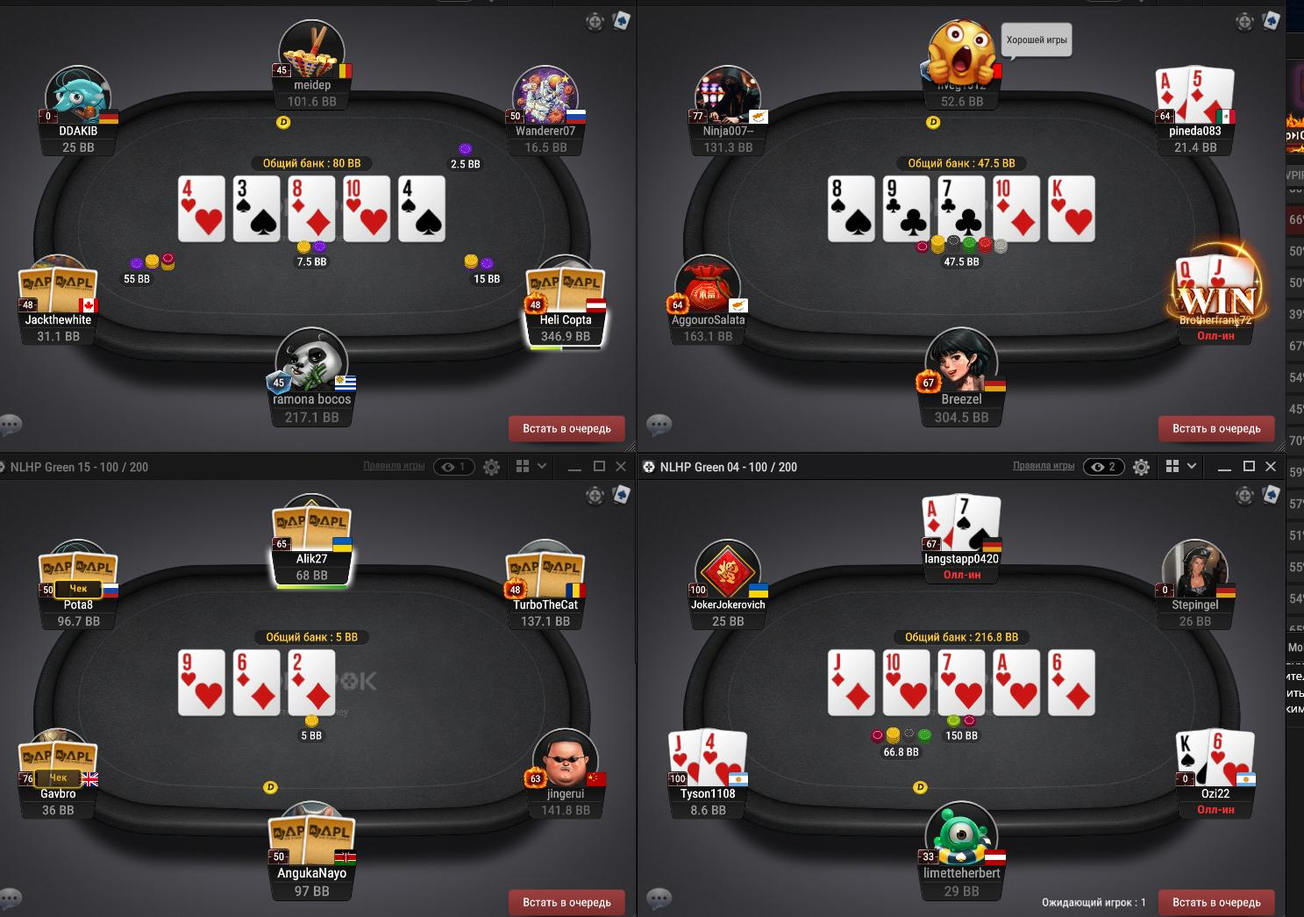10d: (994, 177, 1040, 240)
10h: (883, 651, 930, 716), (344, 175, 390, 240)
2d: (287, 651, 336, 716)
3s: (234, 177, 279, 240)
4h: (177, 174, 227, 243), (700, 726, 750, 785)
4s: (398, 174, 446, 245)
5d: (1188, 63, 1234, 125)
6d: (234, 648, 281, 714), (1050, 650, 1093, 717)
6h: (1207, 724, 1255, 788)
7c: (938, 176, 986, 240)
7h: (939, 649, 987, 715)
7s: (952, 491, 1002, 552)
8d: (289, 177, 336, 243)
8s: (827, 176, 874, 239)
9c: (883, 175, 932, 243)
9h: (178, 649, 226, 719)
Ad: (920, 495, 955, 553), (1154, 67, 1190, 123)
Ah: (992, 649, 1041, 715)
Jd: (827, 648, 874, 717)
Jh: (667, 728, 702, 788), (1209, 251, 1256, 289)
Kh: (1048, 175, 1097, 240)
Ks: (1174, 731, 1209, 785)
Qh: (1175, 256, 1212, 290)
